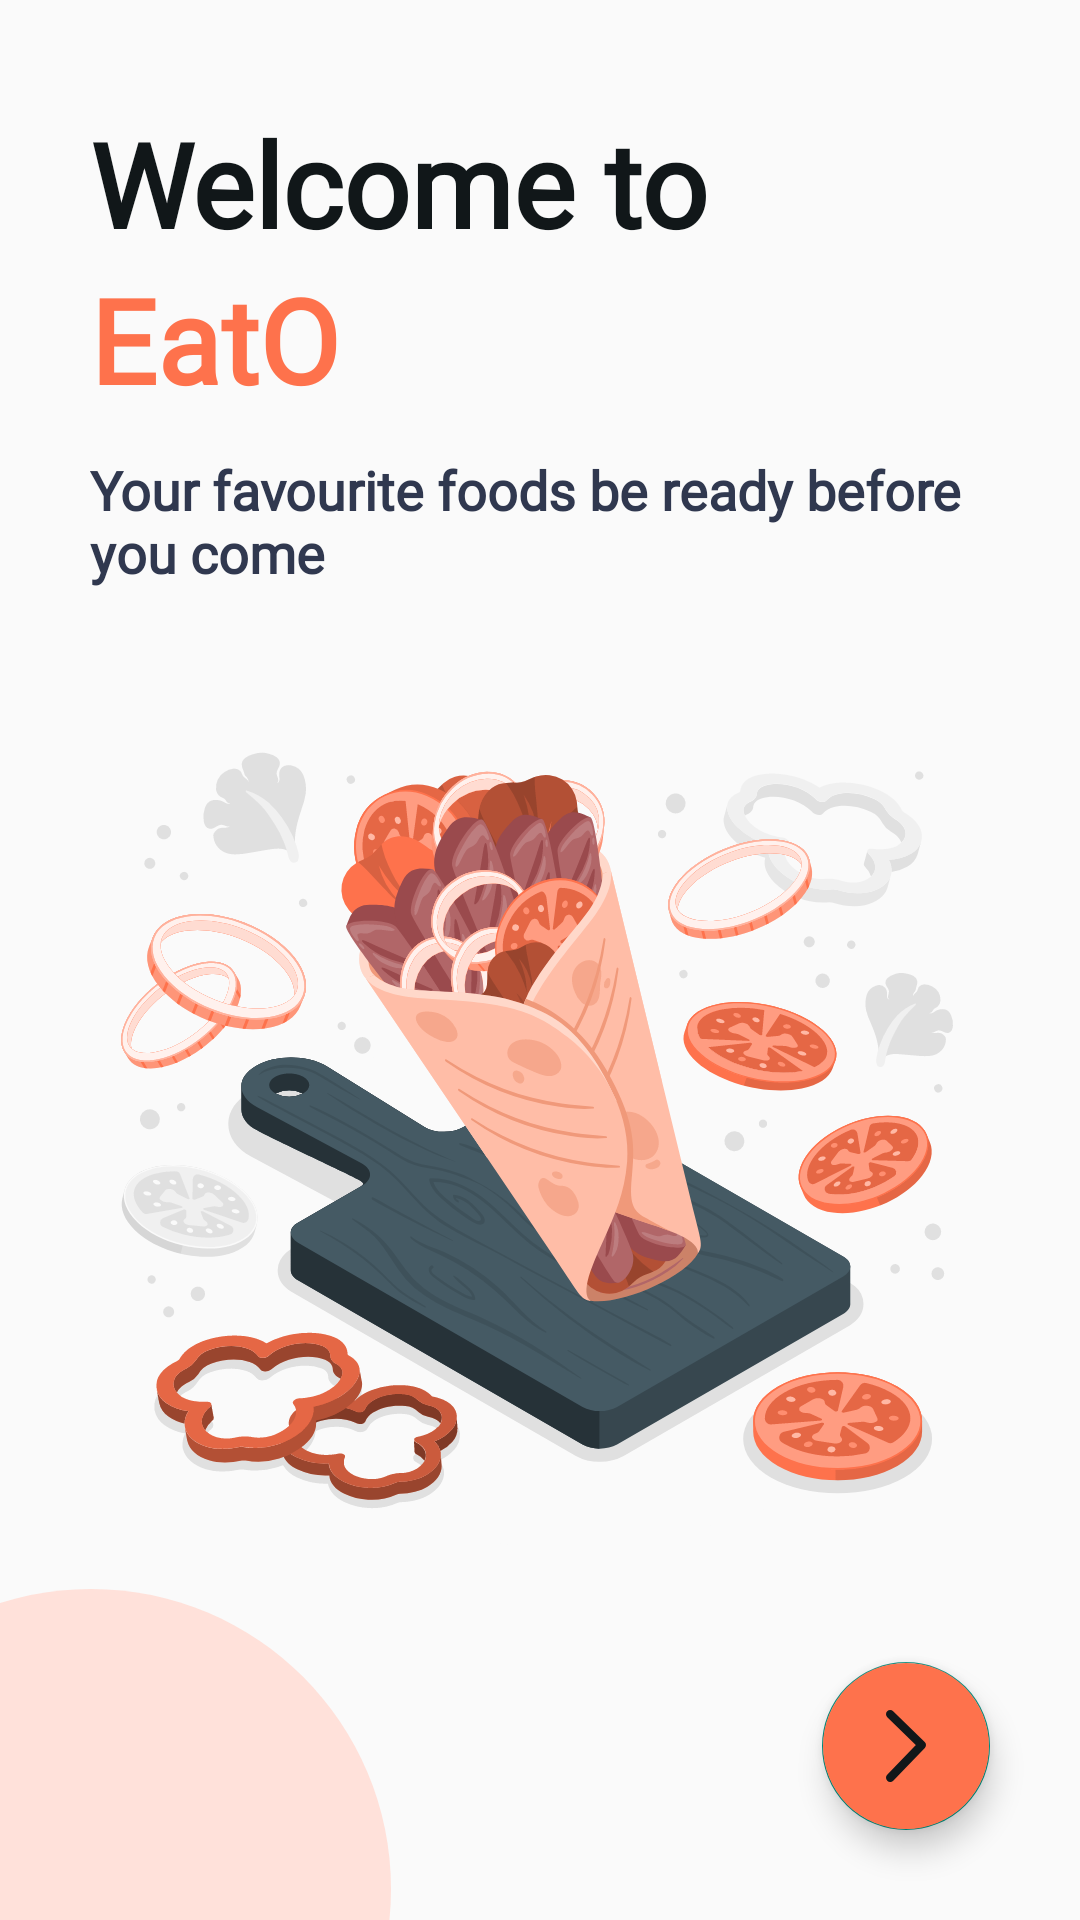

Screen size 1080px x 1920px. Icon name, then its box in pixels as (x1, y1, x2, y2):
Goto sign in activity: (822, 1662, 990, 1830)
